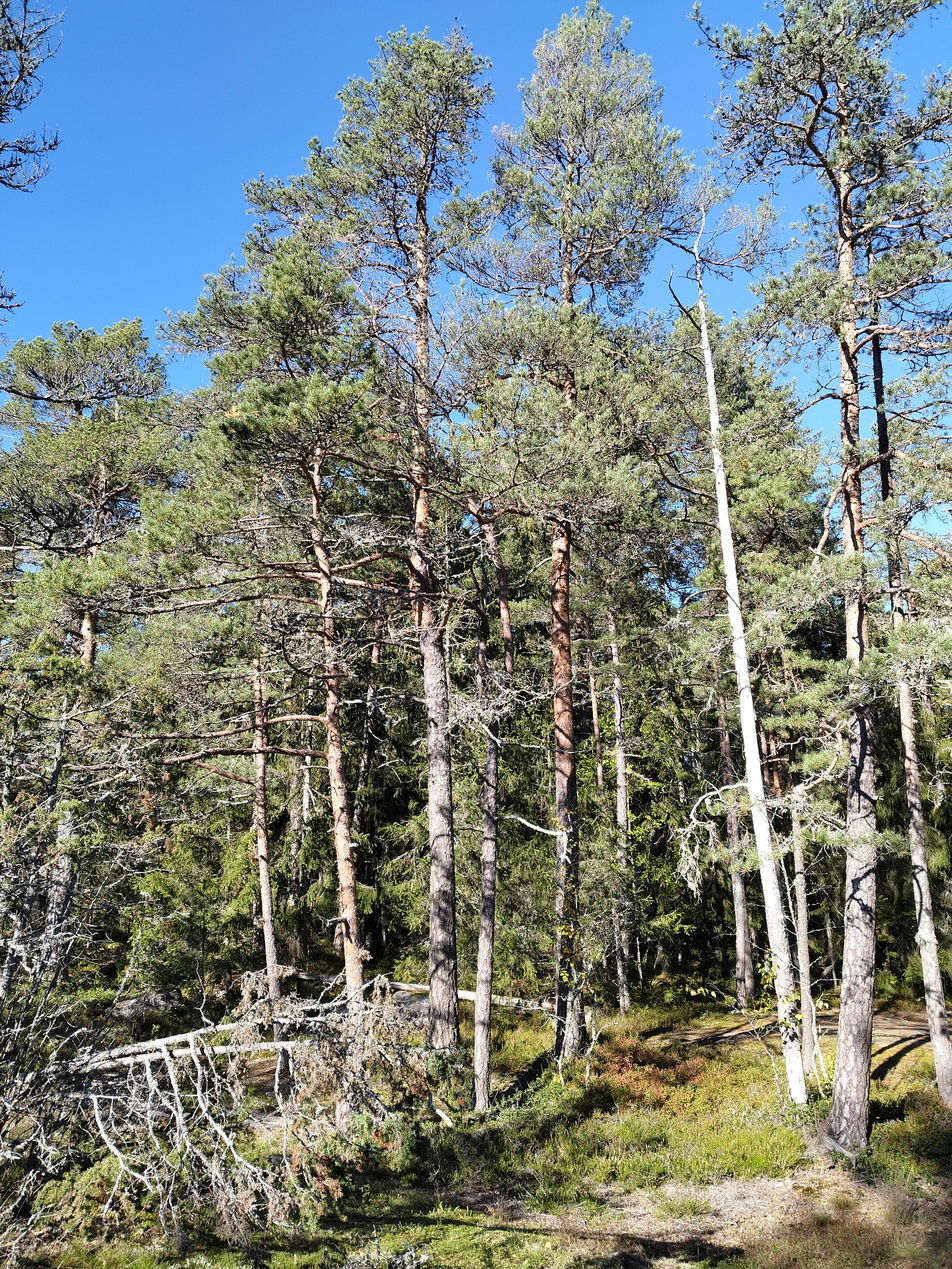Pine: (318, 0, 614, 1116), (747, 2, 950, 1225)
